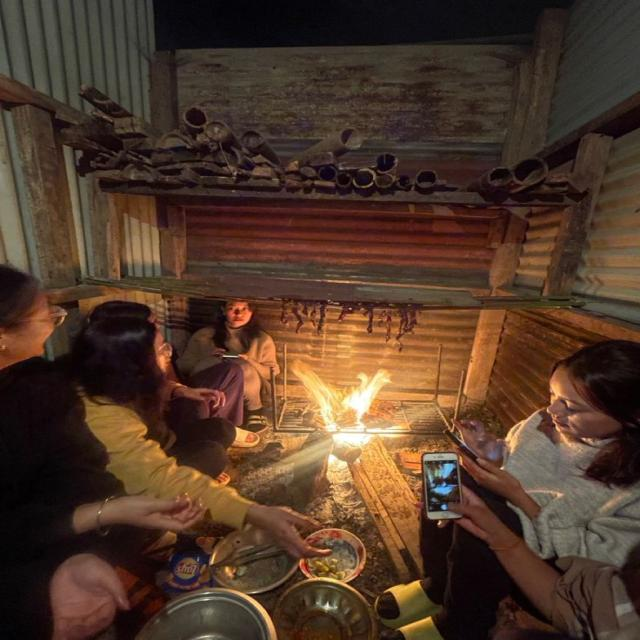fire: (288, 359, 404, 445)
